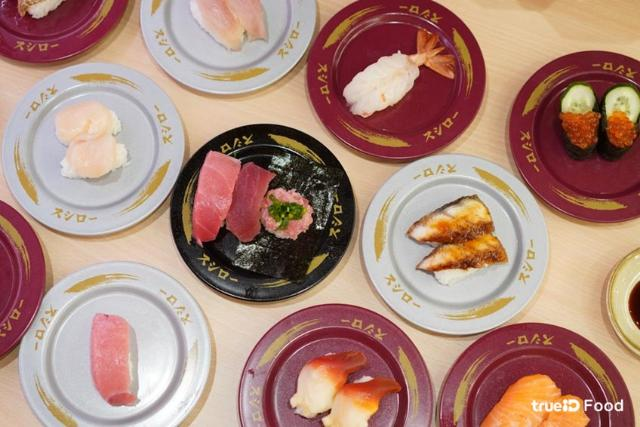janback: (158, 135, 358, 296)
janred: (306, 18, 501, 143), (509, 70, 640, 213), (449, 336, 640, 427), (268, 319, 408, 425), (0, 0, 150, 63), (0, 211, 32, 348)
janwhite: (343, 150, 552, 317), (14, 268, 226, 418), (18, 76, 181, 220), (133, 0, 305, 101)
